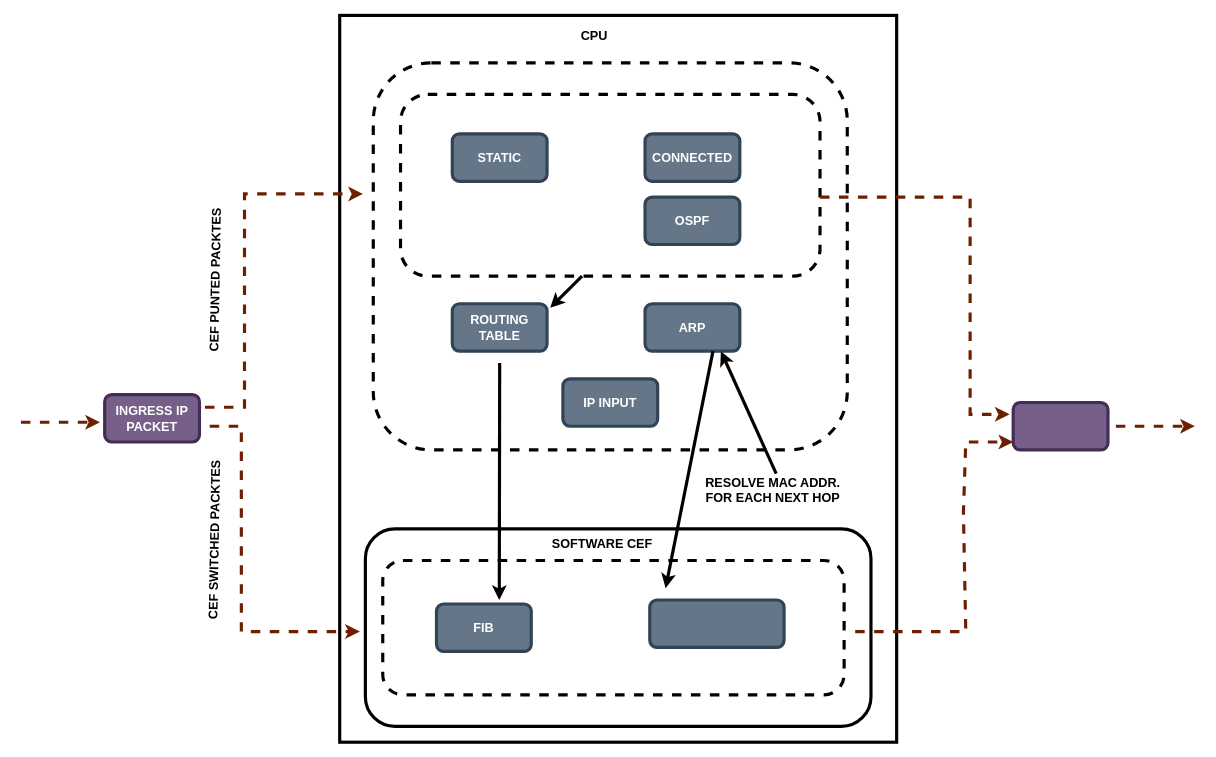
The diagram is 1216 pixels wide and 757 high, and some of its shapes have lost their labels. Each missing label, with the centre of its shape:
"ADJACENCY TABLE" belongs at pixel 716 623.
"EGRESS IP PACKET" belongs at pixel 1060 426.
